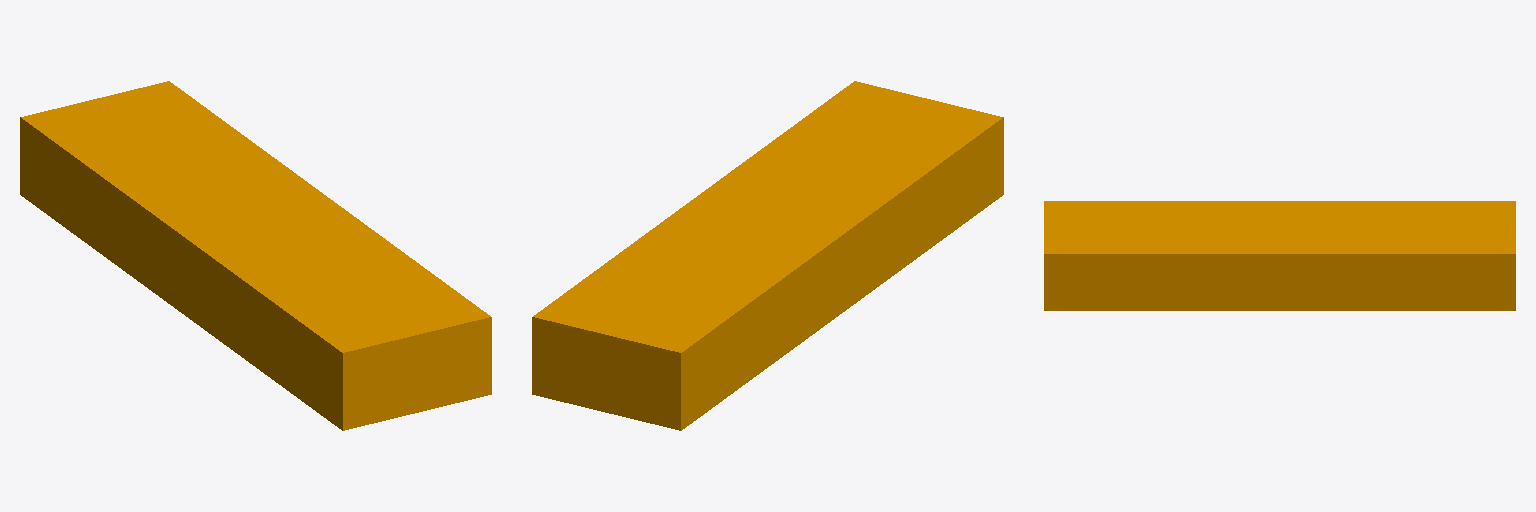
robot.urdf — box_small_2:
<?xml version="1.0"?>
<robot name="box_small_2">
  <link name="box_small_2">
    <inertial>
      <mass value="2.125"/>
      <!-- Inertia values were calculated to be consistent with the mass and
           geometry size, assuming a uniform density. -->
      <inertia ixx="0.0108" ixy="0" ixz="0" iyy="0.0083" iyz="0" izz="0.0042"/>
    </inertial>
    <visual>
      <geometry>
        <box size=".08 .3 .04"/>
      </geometry>
    </visual>
    <collision>
      <geometry>
        <box size=".08 .3 .04"/>
      </geometry>
    </collision>
  </link>
</robot>

--- Facts derived from the render (not from the file) ---
3 views of the same robot in one strip: view 1: azimuth 30°, elevation 25°; view 2: azimuth 150°, elevation 25°; view 3: azimuth 270°, elevation 25° (orthographic).
Robot: box_small_2 — 1 links, 0 joints (none); root link box_small_2; default pose: all joints at 0.
Visible links, largest first — view 1: box_small_2; view 2: box_small_2; view 3: box_small_2.
Link boxes in pixels (<box>): box_small_2: <box>20,81,491,430</box>; box_small_2: <box>532,81,1003,430</box>; box_small_2: <box>1044,201,1515,310</box>.
Size in the robot's own frame: 0.08 by 0.3 by 0.04 metres.
Geometry: primitives only (box / cylinder / sphere), no mesh files.